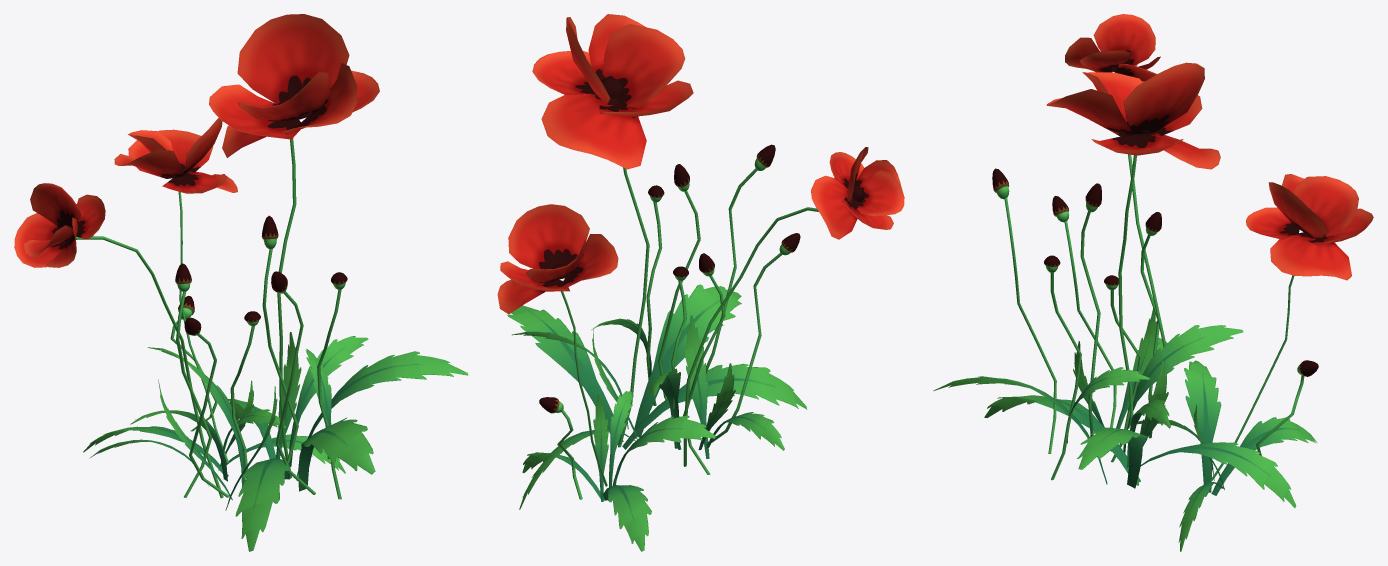
The model's file is SM_Coquelicot3.fbx.
3 views of the same model, side by side, from view 1: azimuth 30°, elevation 25°; view 2: azimuth 150°, elevation 25°; view 3: azimuth 270°, elevation 25° (orthographic). The views are drawn at different scales.
Visible parts, largest first — view 1: Coquelicot_Feuille_039; view 2: Coquelicot_Feuille_039; view 3: Coquelicot_Feuille_039.
Part boxes in pixels (x1=…): Coquelicot_Feuille_039: x1=14, y1=14, x2=468, y2=551; Coquelicot_Feuille_039: x1=497, y1=14, x2=904, y2=551; Coquelicot_Feuille_039: x1=933, y1=14, x2=1373, y2=551.
Bounding box in the file's own units: 88.23 × 80.46 × 93.72.
Materials: 1 (1 with a texture image).
